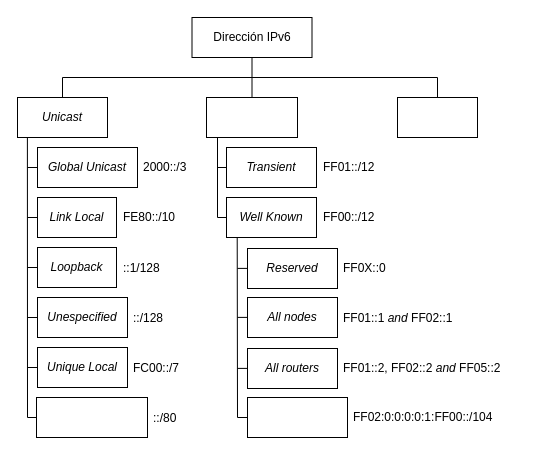
This 539x455 diagram has some shape labels left out. Here are the shapes that lost their labels. From the top down, the centre of each, then its label:
point (252, 117): Multicast
point (437, 117): Anycast
point (92, 417): Embedded IPv4
point (297, 417): Solicited Node
